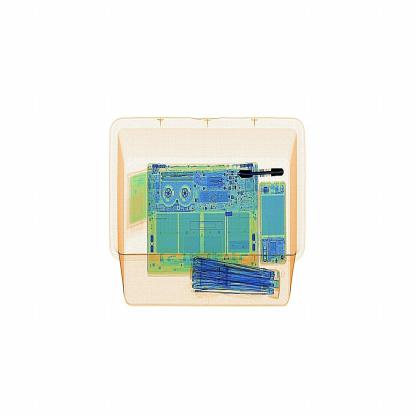knife: (236, 164, 286, 180)
